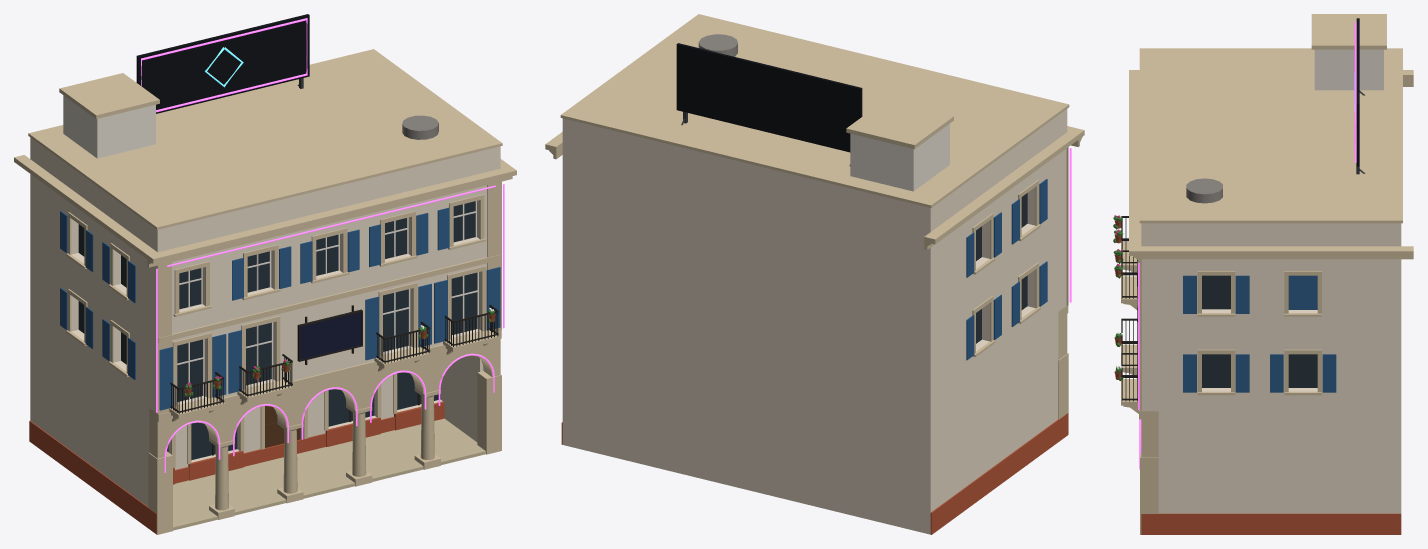
3 renders of one model, left to right at view 1: azimuth 30°, elevation 25°; view 2: azimuth 150°, elevation 25°; view 3: azimuth 270°, elevation 25°, orthographic. The views are drawn at different scales.
Parts seen in each view (by area): view 1: arcade.lod0; view 2: arcade.lod0; view 3: arcade.lod0.
Boxes of the visible parts, x1,y1,x2,y2 form: arcade.lod0: (14, 14, 516, 534); arcade.lod0: (545, 14, 1084, 534); arcade.lod0: (1113, 14, 1413, 534).
Bounding box in the file's own units: 14.84 × 14.8 × 10.38.
